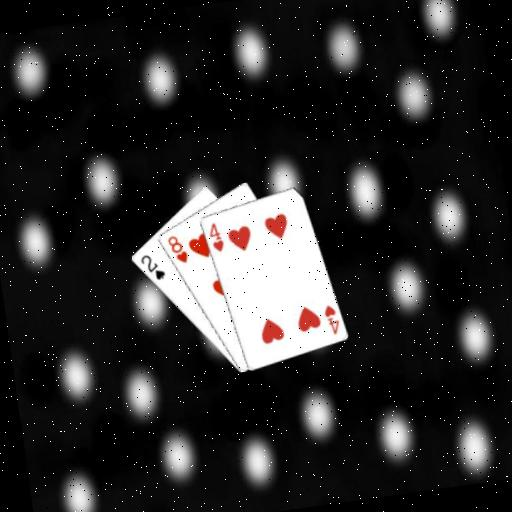2S: (137, 249, 168, 284)
4H: (319, 301, 342, 337), (205, 219, 226, 255)
8H: (164, 231, 190, 267)
